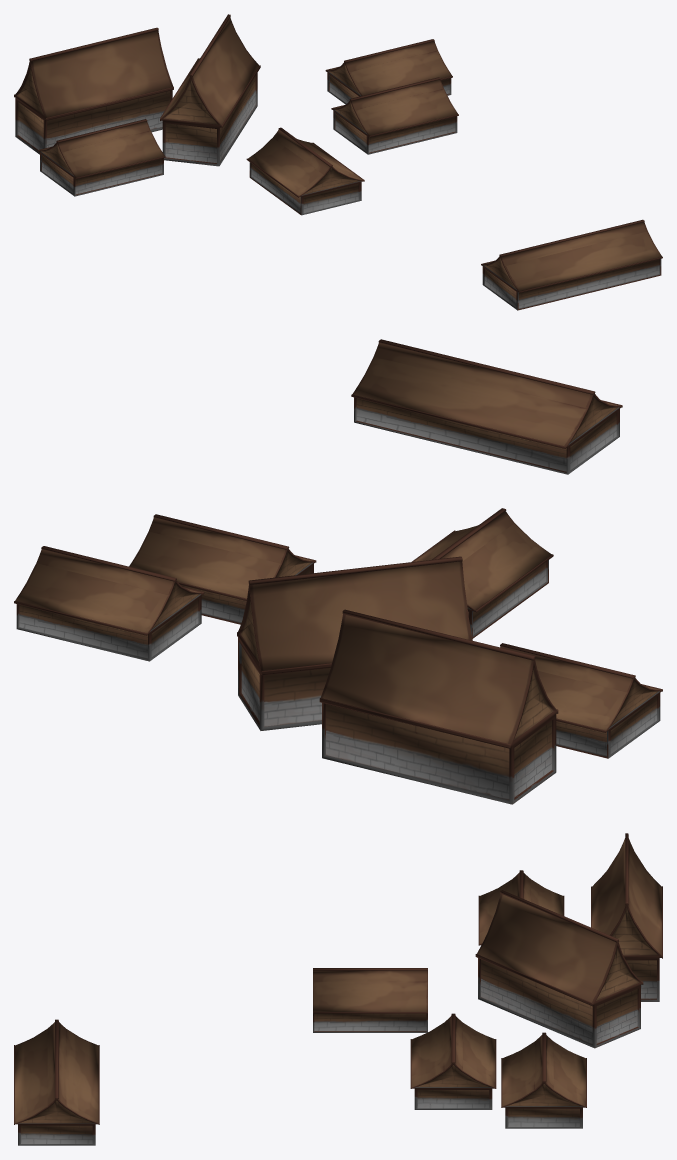
Rendered from Houses.fbx.
3 views of the same model, one above another, from view 1: azimuth 30°, elevation 25°; view 2: azimuth 150°, elevation 25°; view 3: azimuth 270°, elevation 25° (orthographic). The views are drawn at different scales.
Parts seen in each view (by area): view 1: houses.003, house tall.004, houses.002, house tall.001, house tall.005, house tall.002, house tall.003, house tall.007; view 2: houses.003, house tall.004, houses.002, house tall.003, house tall.001, house tall.005, house tall.002, house tall.007; view 3: houses.002, house tall.004, house tall.002, houses.003, house tall.001, house tall.003, house tall.005.
Part boxes in pixels (left/top/right/bottom): houses.003: left=14, top=27, right=173, bottom=154; house tall.004: left=481, top=219, right=662, bottom=310; houses.002: left=160, top=14, right=260, bottom=166; house tall.001: left=331, top=77, right=458, bottom=154; house tall.005: left=38, top=119, right=165, bottom=195; house tall.002: left=246, top=127, right=364, bottom=215; house tall.003: left=325, top=39, right=452, bottom=104; house tall.007: left=38, top=120, right=165, bottom=196; houses.003: left=319, top=609, right=558, bottom=804; house tall.004: left=351, top=339, right=622, bottom=474; houses.002: left=237, top=556, right=472, bottom=730; house tall.003: left=14, top=546, right=204, bottom=661; house tall.001: left=129, top=514, right=316, bottom=624; house tall.005: left=500, top=643, right=662, bottom=758; house tall.002: left=412, top=508, right=553, bottom=638; house tall.007: left=501, top=647, right=662, bottom=758; houses.002: left=475, top=890, right=643, bottom=1048; house tall.004: left=14, top=1019, right=99, bottom=1145; house tall.002: left=313, top=968, right=427, bottom=1032; houses.003: left=591, top=833, right=662, bottom=1001; house tall.001: left=410, top=1013, right=496, bottom=1109; house tall.003: left=501, top=1032, right=586, bottom=1128; house tall.005: left=478, top=870, right=564, bottom=945.
Size of the model in its own units: 13444 by 3468 by 17481.
